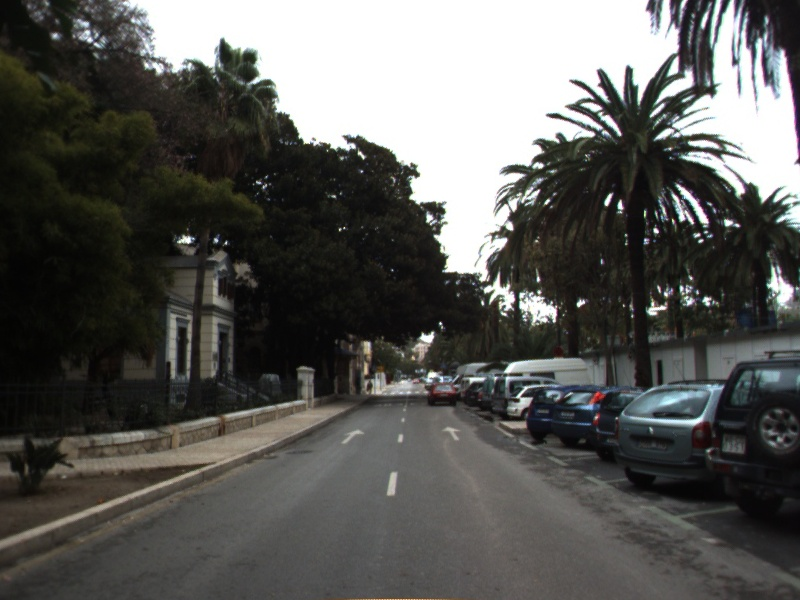STRAIGHT: (339, 427, 367, 446), (439, 424, 464, 442)
